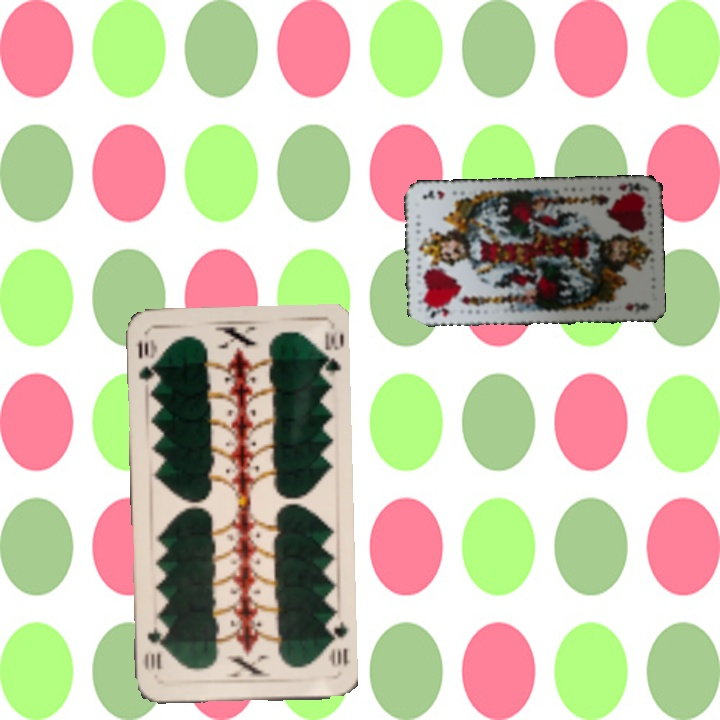G10: (324, 618, 352, 669), (133, 335, 158, 383)
HK: (615, 178, 646, 198), (422, 304, 452, 321)
